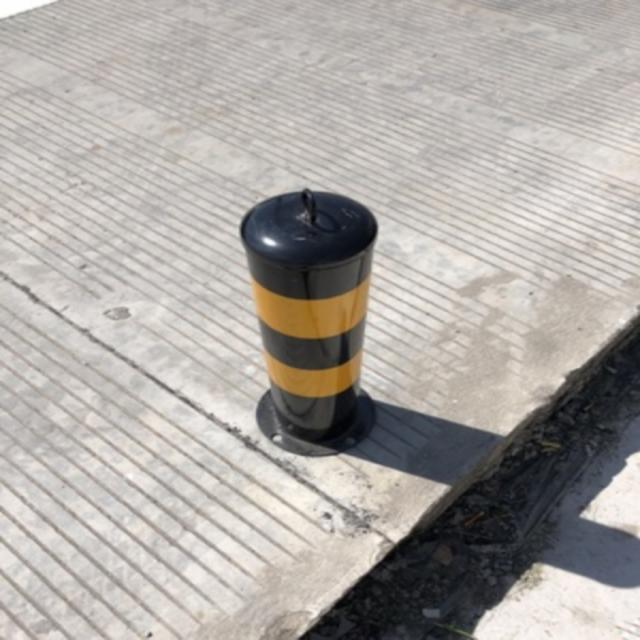warning_column: (239, 187, 380, 456)
